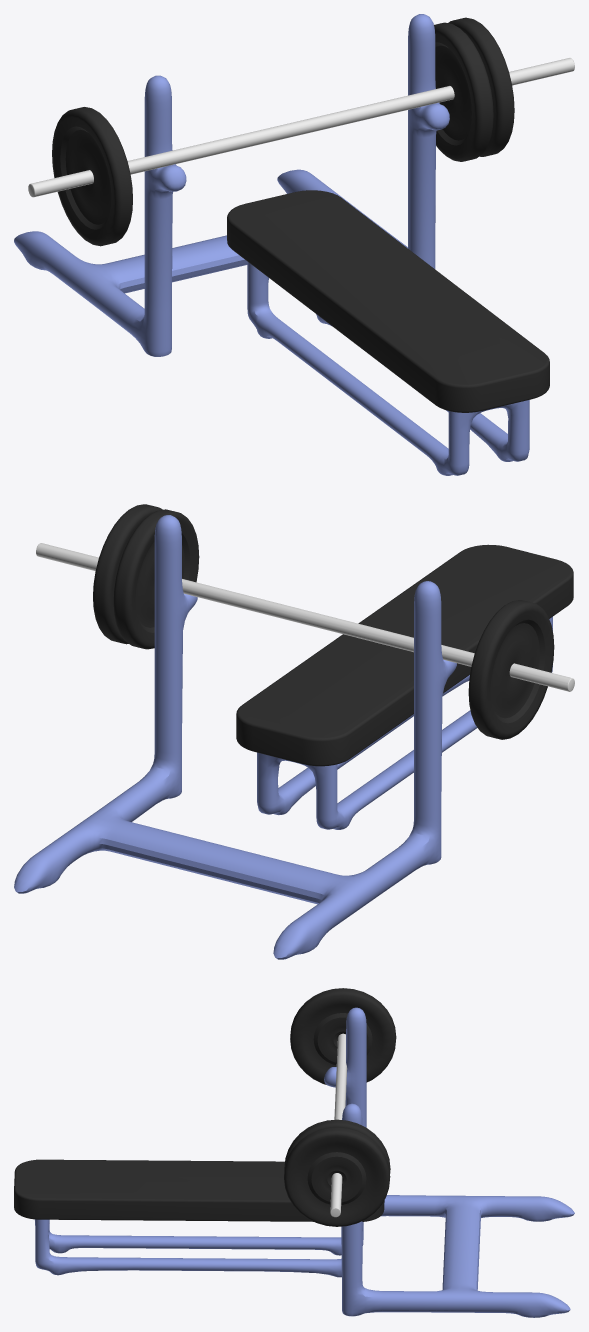
File: gym1.fbx
3 renders of one model, top to bottom at view 1: azimuth 30°, elevation 25°; view 2: azimuth 150°, elevation 25°; view 3: azimuth 270°, elevation 25°, orthographic. The views are drawn at different scales.
Visible parts, largest first — view 1: Cube.018, Cube.023, Cylinder.002, Cylinder.020, Cylinder.005, Cylinder.004; view 2: Cube.023, Cube.018, Cylinder.002, Cylinder.020, Cylinder.005, Cylinder.004; view 3: Cube.018, Cube.023, Cylinder.004, Cylinder.002, Cylinder.020, Cylinder.005.
Part boxes in pixels (x1,y1,x2,y2): Cube.018: [227, 190, 549, 475]; Cube.023: [14, 14, 449, 356]; Cylinder.002: [52, 107, 132, 246]; Cylinder.020: [28, 58, 574, 197]; Cylinder.005: [434, 22, 493, 161]; Cylinder.004: [448, 17, 514, 156]; Cube.023: [14, 515, 456, 959]; Cube.018: [236, 544, 573, 829]; Cylinder.002: [468, 600, 554, 739]; Cylinder.020: [36, 543, 574, 691]; Cylinder.005: [113, 509, 199, 649]; Cylinder.004: [93, 504, 162, 644]; Cube.018: [14, 1159, 384, 1277]; Cube.023: [324, 1007, 574, 1317]; Cylinder.004: [284, 1127, 390, 1226]; Cylinder.002: [290, 988, 396, 1084]; Cylinder.020: [330, 1033, 347, 1217]; Cylinder.005: [284, 1119, 390, 1173].
Bounding box in the file's own units: 264 × 130 × 317.
